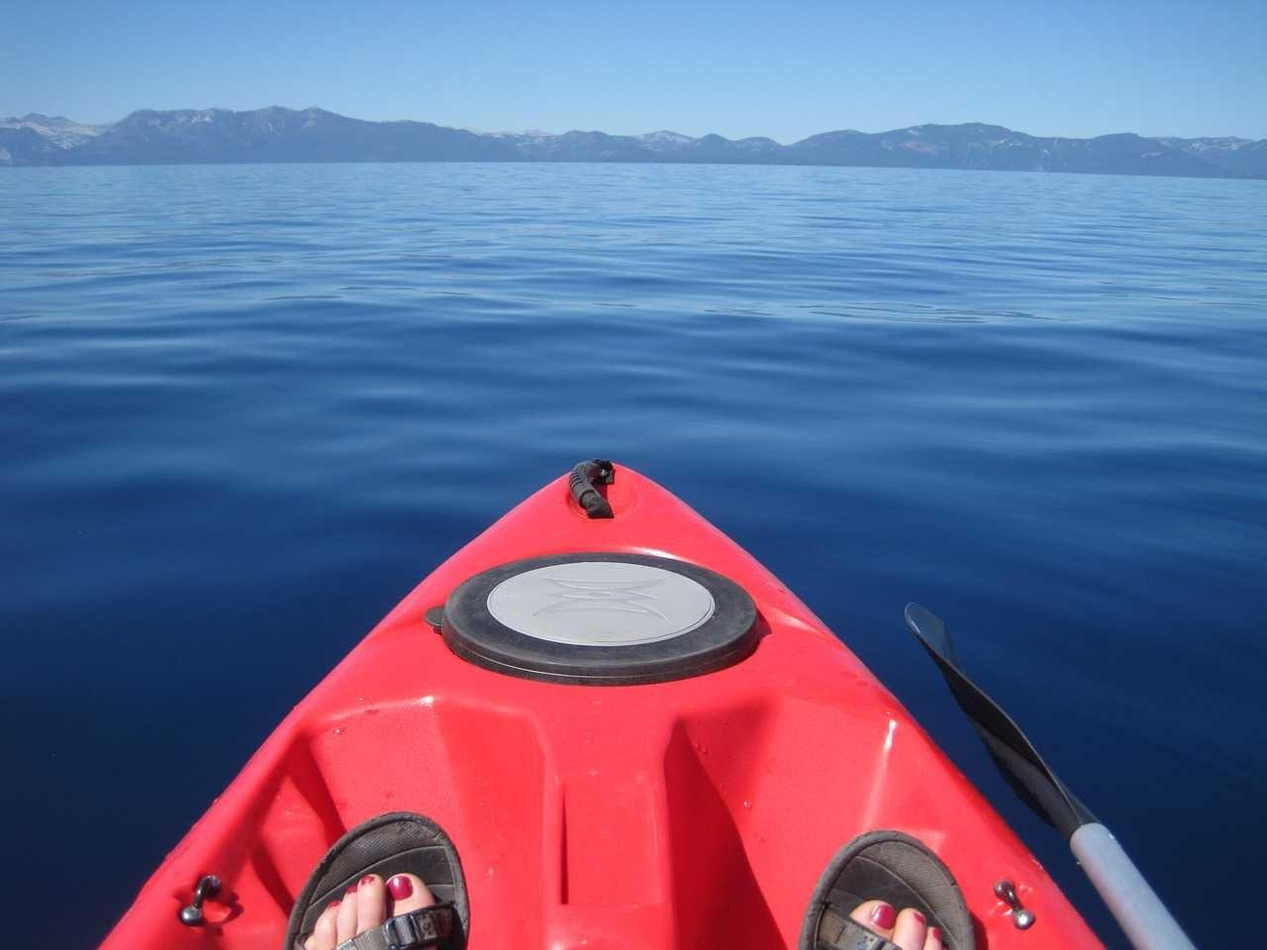kayak: (90, 456, 1202, 949)
